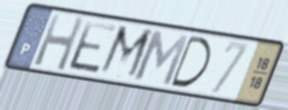7: (209, 38, 253, 97)
D: (168, 33, 214, 90)
E: (65, 18, 120, 77)
H: (30, 11, 87, 74)
M: (95, 22, 157, 83), (131, 27, 192, 88)
